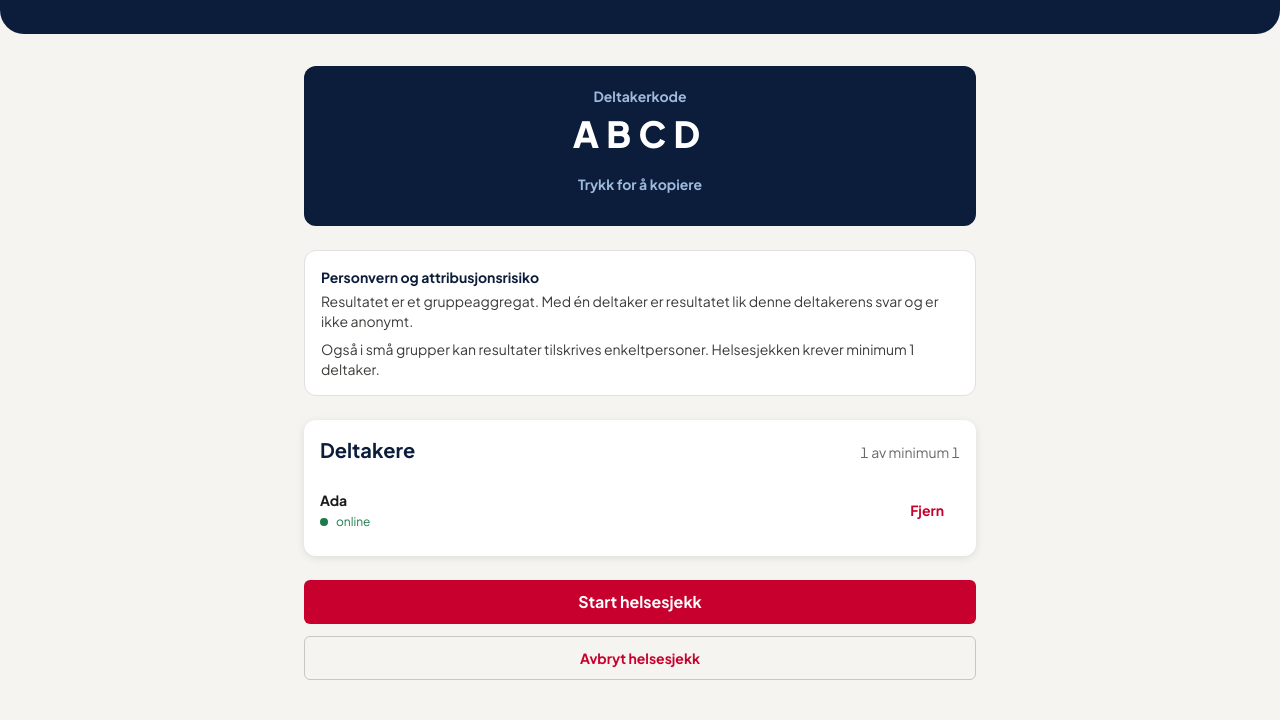
HealthCheckDashboardPage › shows live lobby members and starts through the health service
(page scrolled)
Expected: the text "Ada" is shown, [320, 491, 347, 509]
Expected: the element named "Ada er online" is shown, [320, 514, 370, 529]
Click the button "Start helsesjekk".
click(640, 602)  # box [304, 580, 976, 624]
(page scrolled)
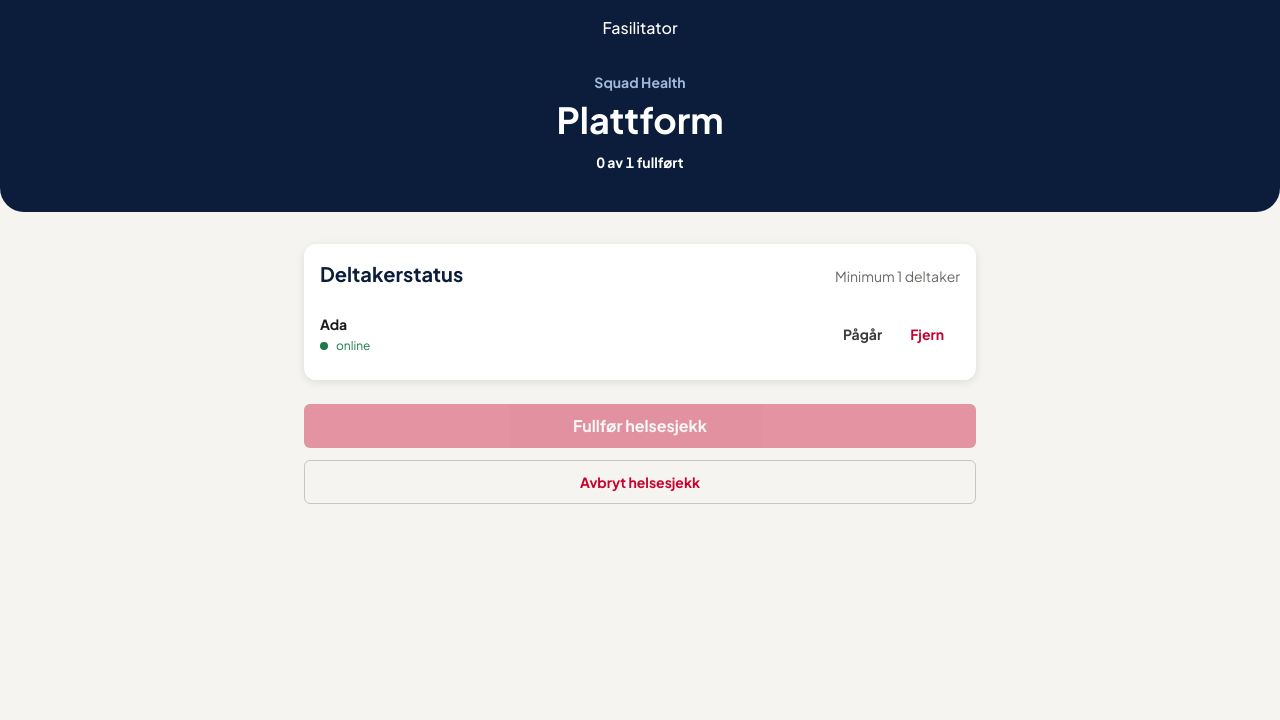
Result: the heading "Deltakerstatus" is shown at [320, 260, 463, 288]
